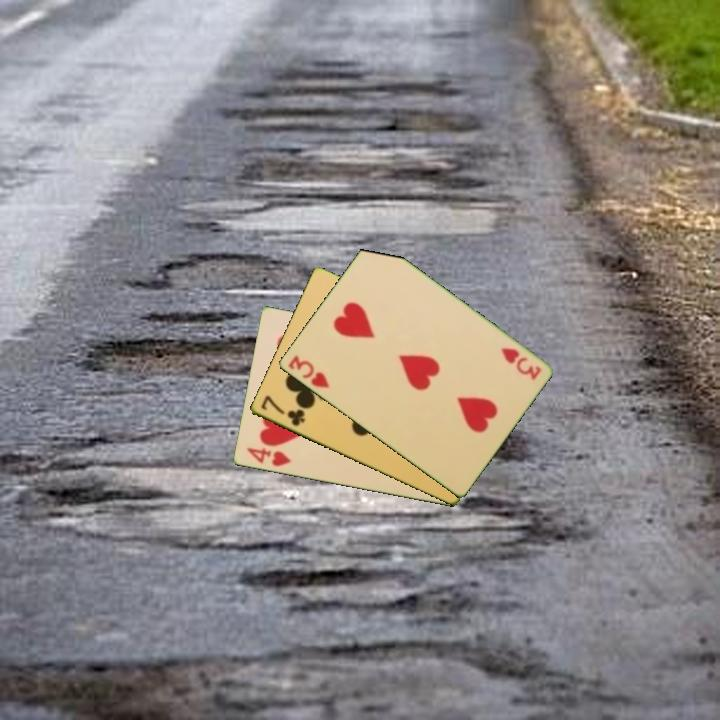3h: (284, 352, 332, 391), (497, 344, 544, 383)
4h: (243, 444, 293, 470)
7c: (257, 392, 308, 429)
